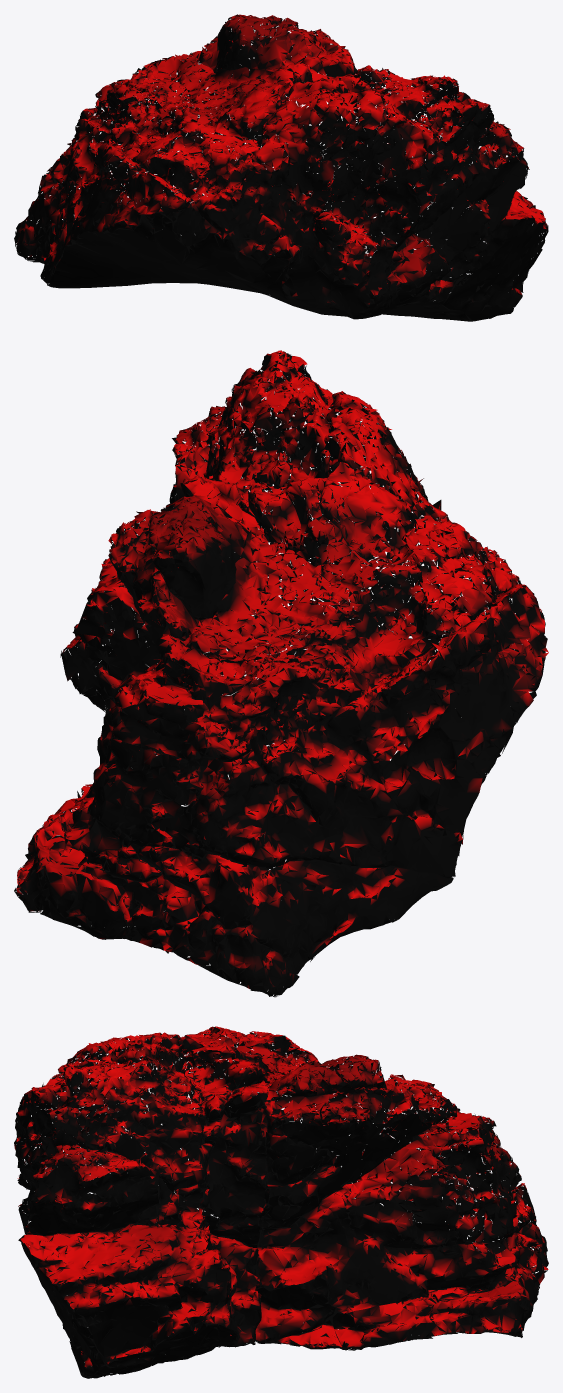
Rendered from SM_BoulderLargeMoss_00.fbx.
The picture shows the model from 3 angles, top to bottom: view 1: azimuth 30°, elevation 25°; view 2: azimuth 150°, elevation 25°; view 3: azimuth 270°, elevation 25°; orthographic projection. The views are drawn at different scales.
Visible parts, largest first — view 1: SM_BoulderLargeMoss_00; view 2: SM_BoulderLargeMoss_00; view 3: SM_BoulderLargeMoss_00.
Boxes of the visible parts, x1,y1,x2,y2 form: SM_BoulderLargeMoss_00: (14, 14, 548, 321); SM_BoulderLargeMoss_00: (14, 350, 548, 997); SM_BoulderLargeMoss_00: (14, 1026, 548, 1378).
Size of the model in its own units: 176 by 203 by 126.
